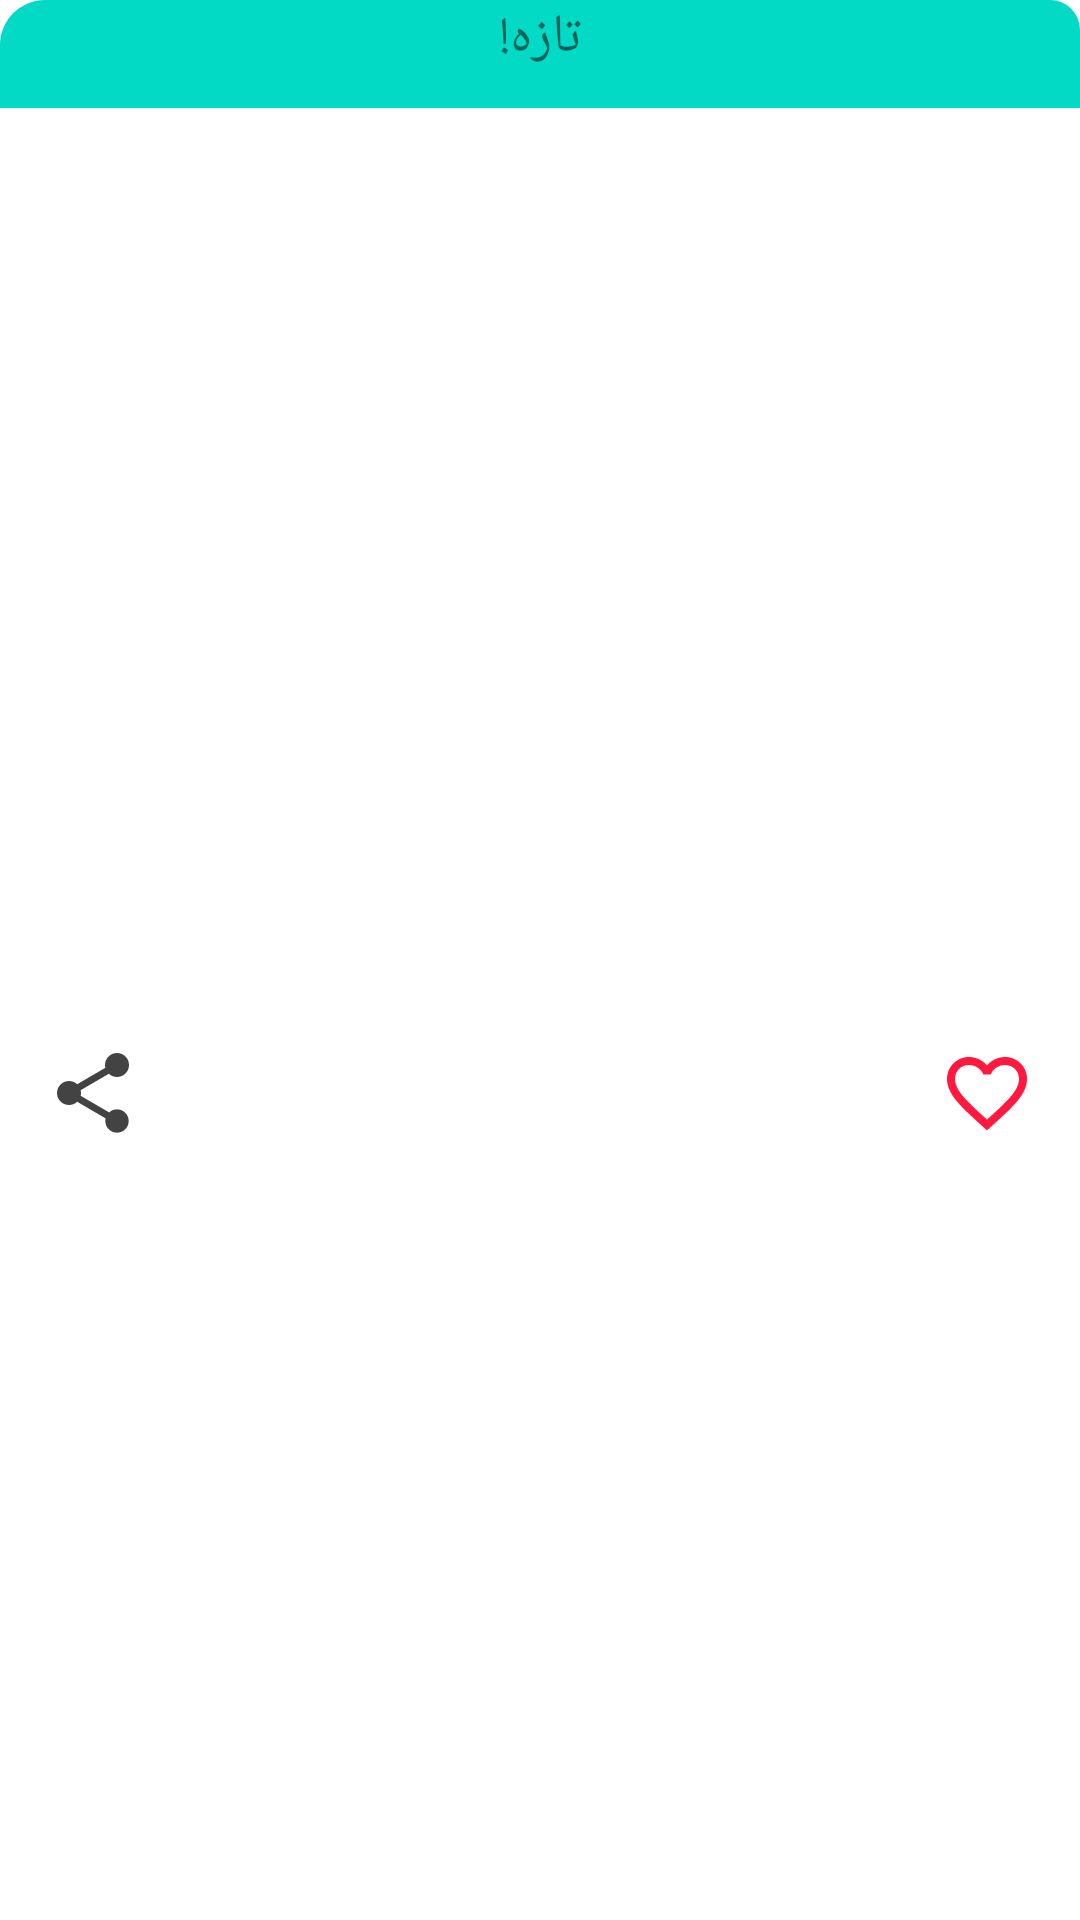

Icon bounding boxes for this 1080×1920 phone screenshot, format (x1, y1, x2, y2):
not favorite: (947, 1057, 1027, 1130)
share: (57, 1053, 129, 1133)
